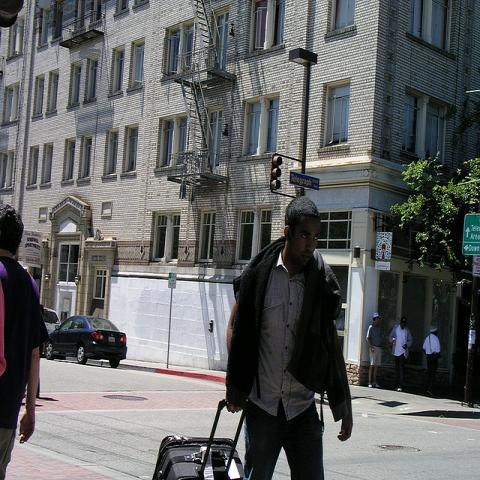car: (46, 314, 126, 370), (43, 306, 61, 334)
